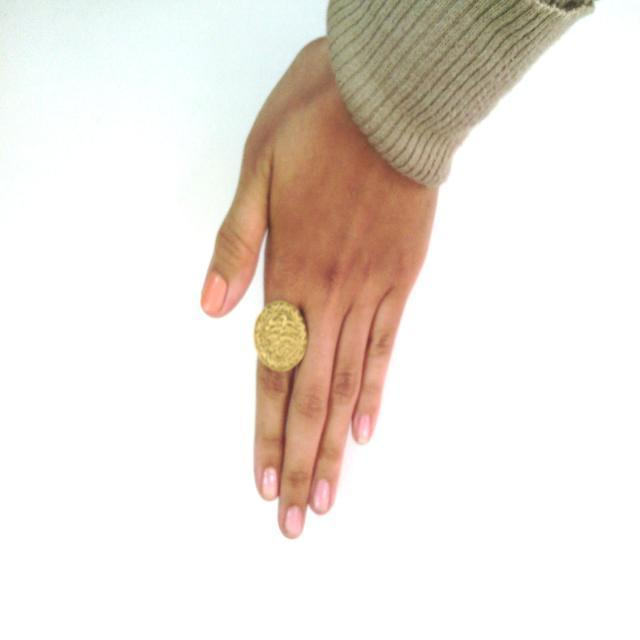Fingernail: (203, 274, 226, 312), (285, 506, 302, 537), (313, 480, 329, 512), (262, 468, 277, 499), (357, 414, 370, 443)
